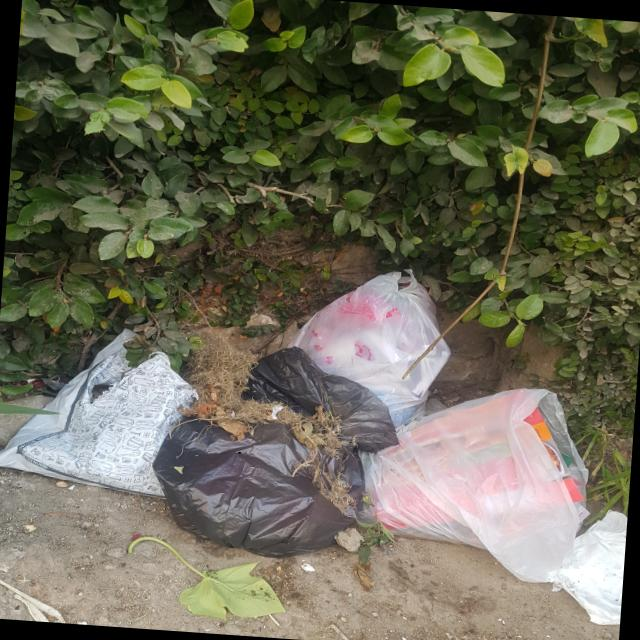general: (400, 390, 595, 572), (145, 410, 368, 564), (296, 272, 454, 396), (237, 342, 406, 455)
